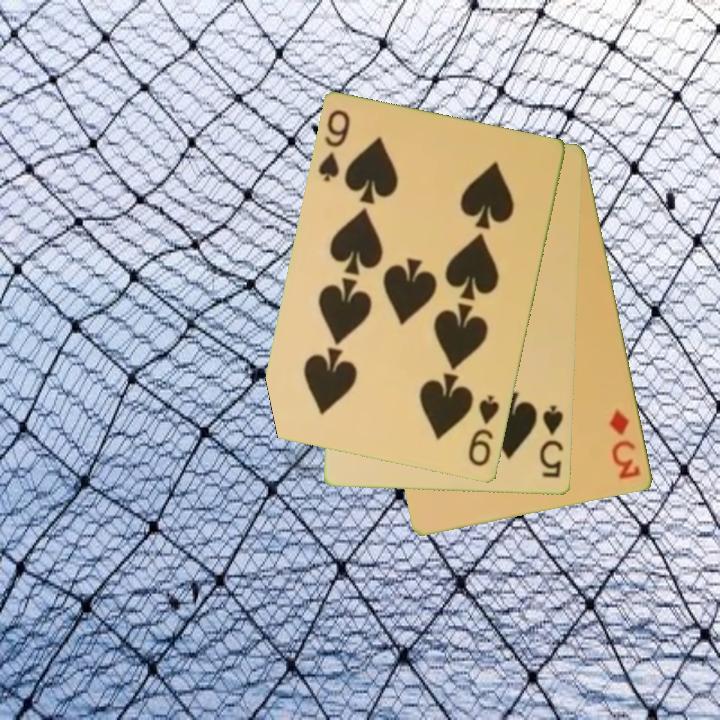3d: (606, 406, 644, 483)
5s: (536, 402, 567, 481)
9s: (315, 106, 354, 185), (465, 391, 503, 470)
